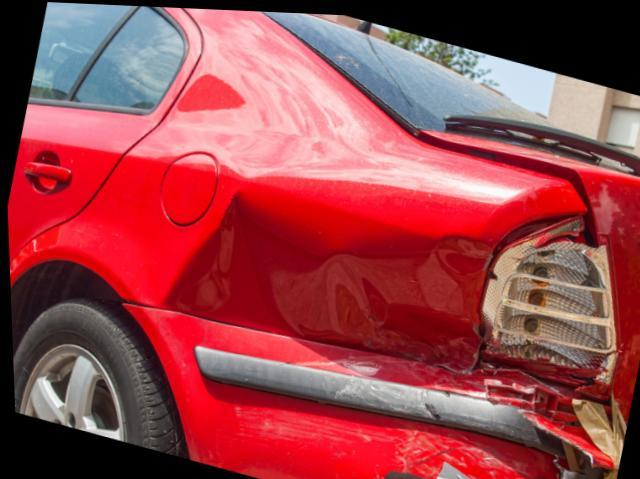dent: (160, 196, 520, 393)
lamp broken: (480, 212, 611, 378)
